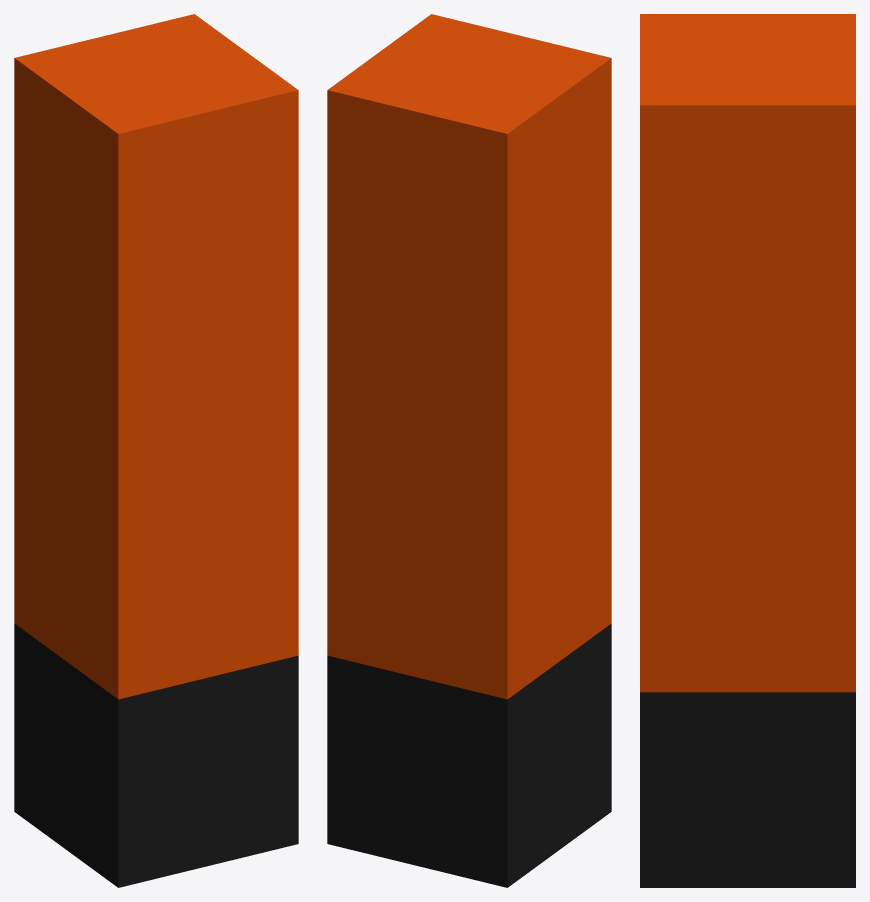
The model's file is Animals-17.obj.
The picture shows the model from 3 angles, left to right: view 1: azimuth 30°, elevation 25°; view 2: azimuth 150°, elevation 25°; view 3: azimuth 270°, elevation 25°; orthographic projection. The views are drawn at different scales.
Size of the model in its own units: 0.1 by 0.4 by 0.1.
Materials: 1 (1 with a texture image).
